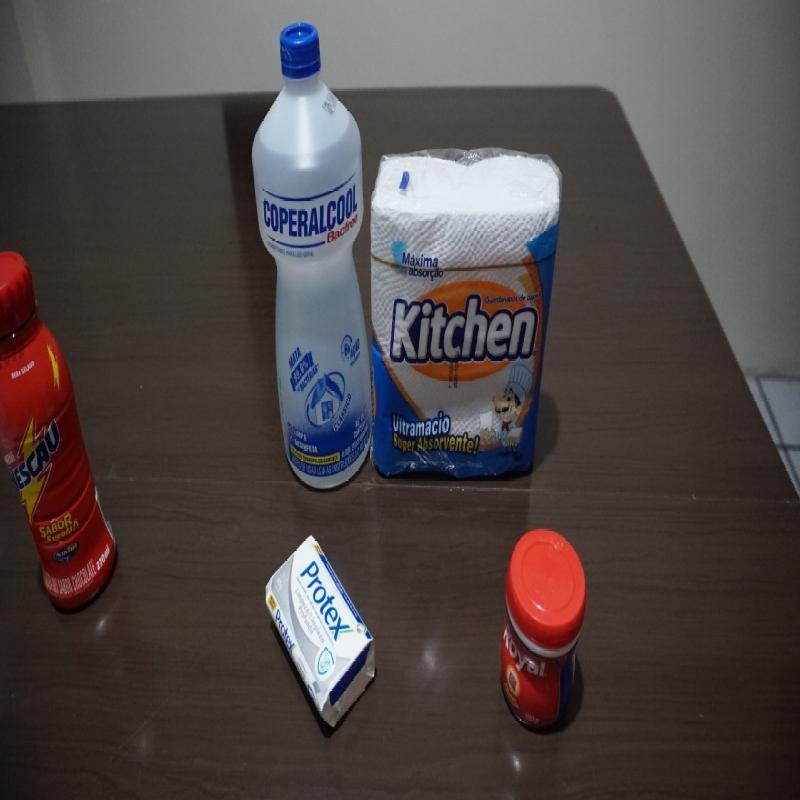Alcohol Bottle: (254, 27, 374, 481)
Chocolate Milk: (0, 231, 119, 610)
Napkin: (370, 156, 554, 496)
Soap: (261, 529, 381, 740)
Yeast: (501, 530, 586, 741)
